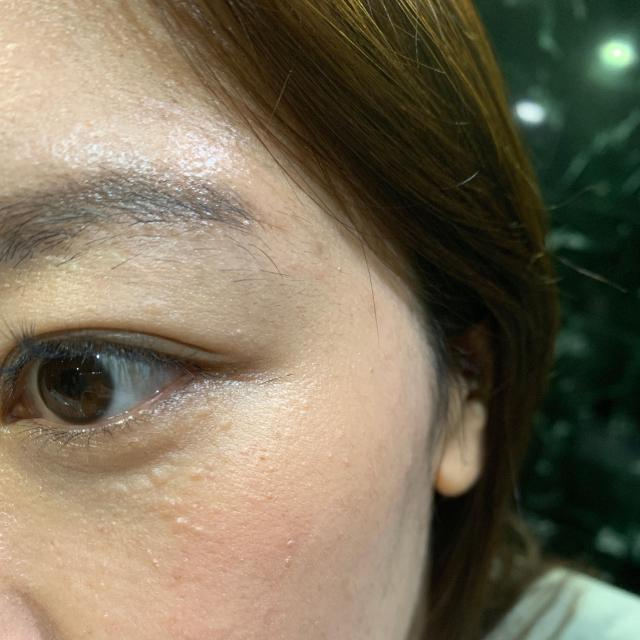blackheads: (82, 448, 210, 512), (154, 497, 230, 549), (196, 400, 262, 450), (216, 314, 282, 356), (272, 523, 316, 579)
